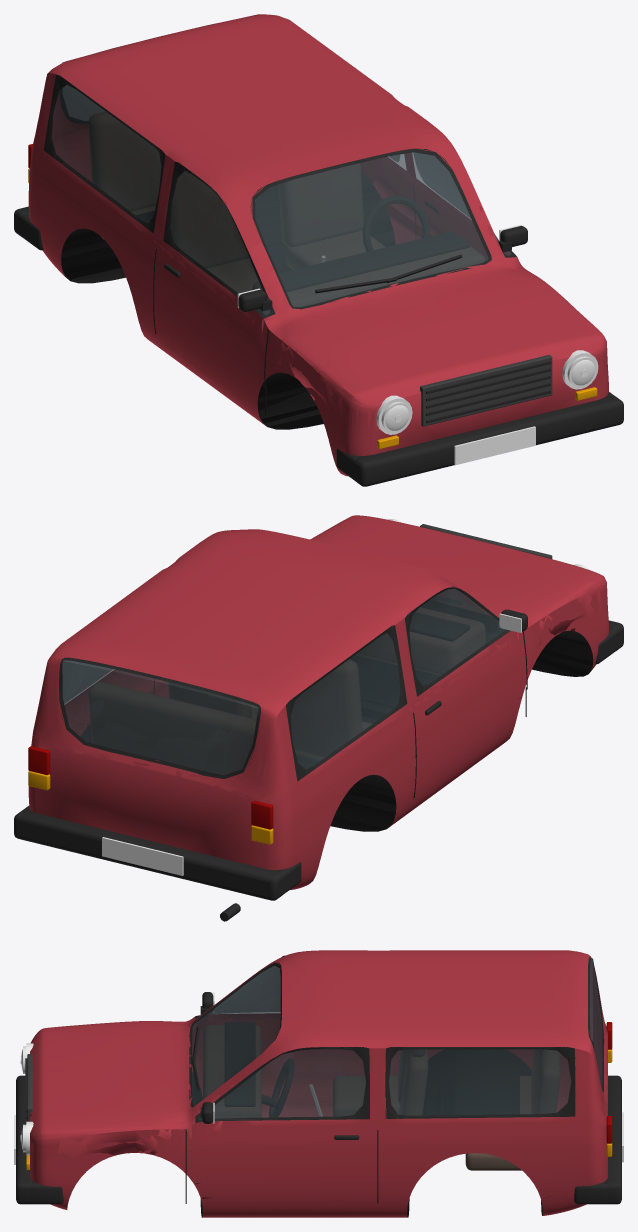
Rendered from niva.glb.
The picture shows the model from 3 angles, top to bottom: view 1: azimuth 30°, elevation 25°; view 2: azimuth 150°, elevation 25°; view 3: azimuth 270°, elevation 25°; orthographic projection. The views are drawn at different scales.
Visible parts, largest first — view 1: LOD_hi, LOD0; view 2: LOD_hi, LOD0; view 3: LOD_hi, LOD0.
Boxes of the visible parts, box(x1,y1,x2,y2) form: LOD_hi: box(14, 14, 623, 486); LOD0: box(14, 15, 617, 482); LOD_hi: box(14, 515, 623, 912); LOD0: box(16, 517, 623, 921); LOD_hi: box(14, 950, 623, 1217); LOD0: box(14, 951, 623, 1216).
Size of what is drawn, in the model's own units: 1.85 by 1.39 by 3.95.
